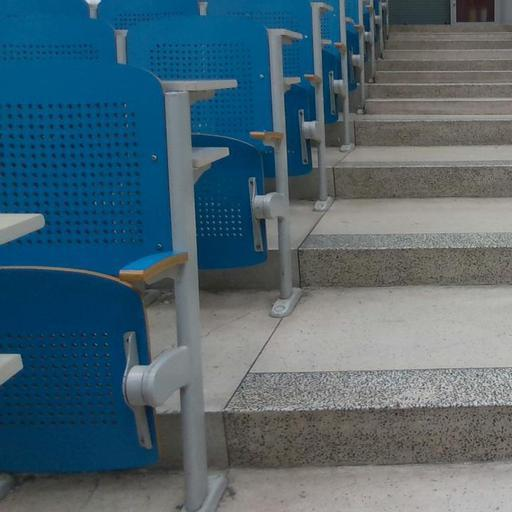stairs: (225, 25, 511, 466)
